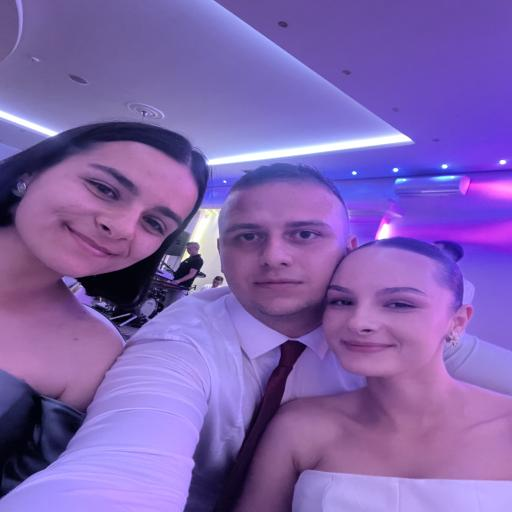marija: (324, 246, 452, 376)
